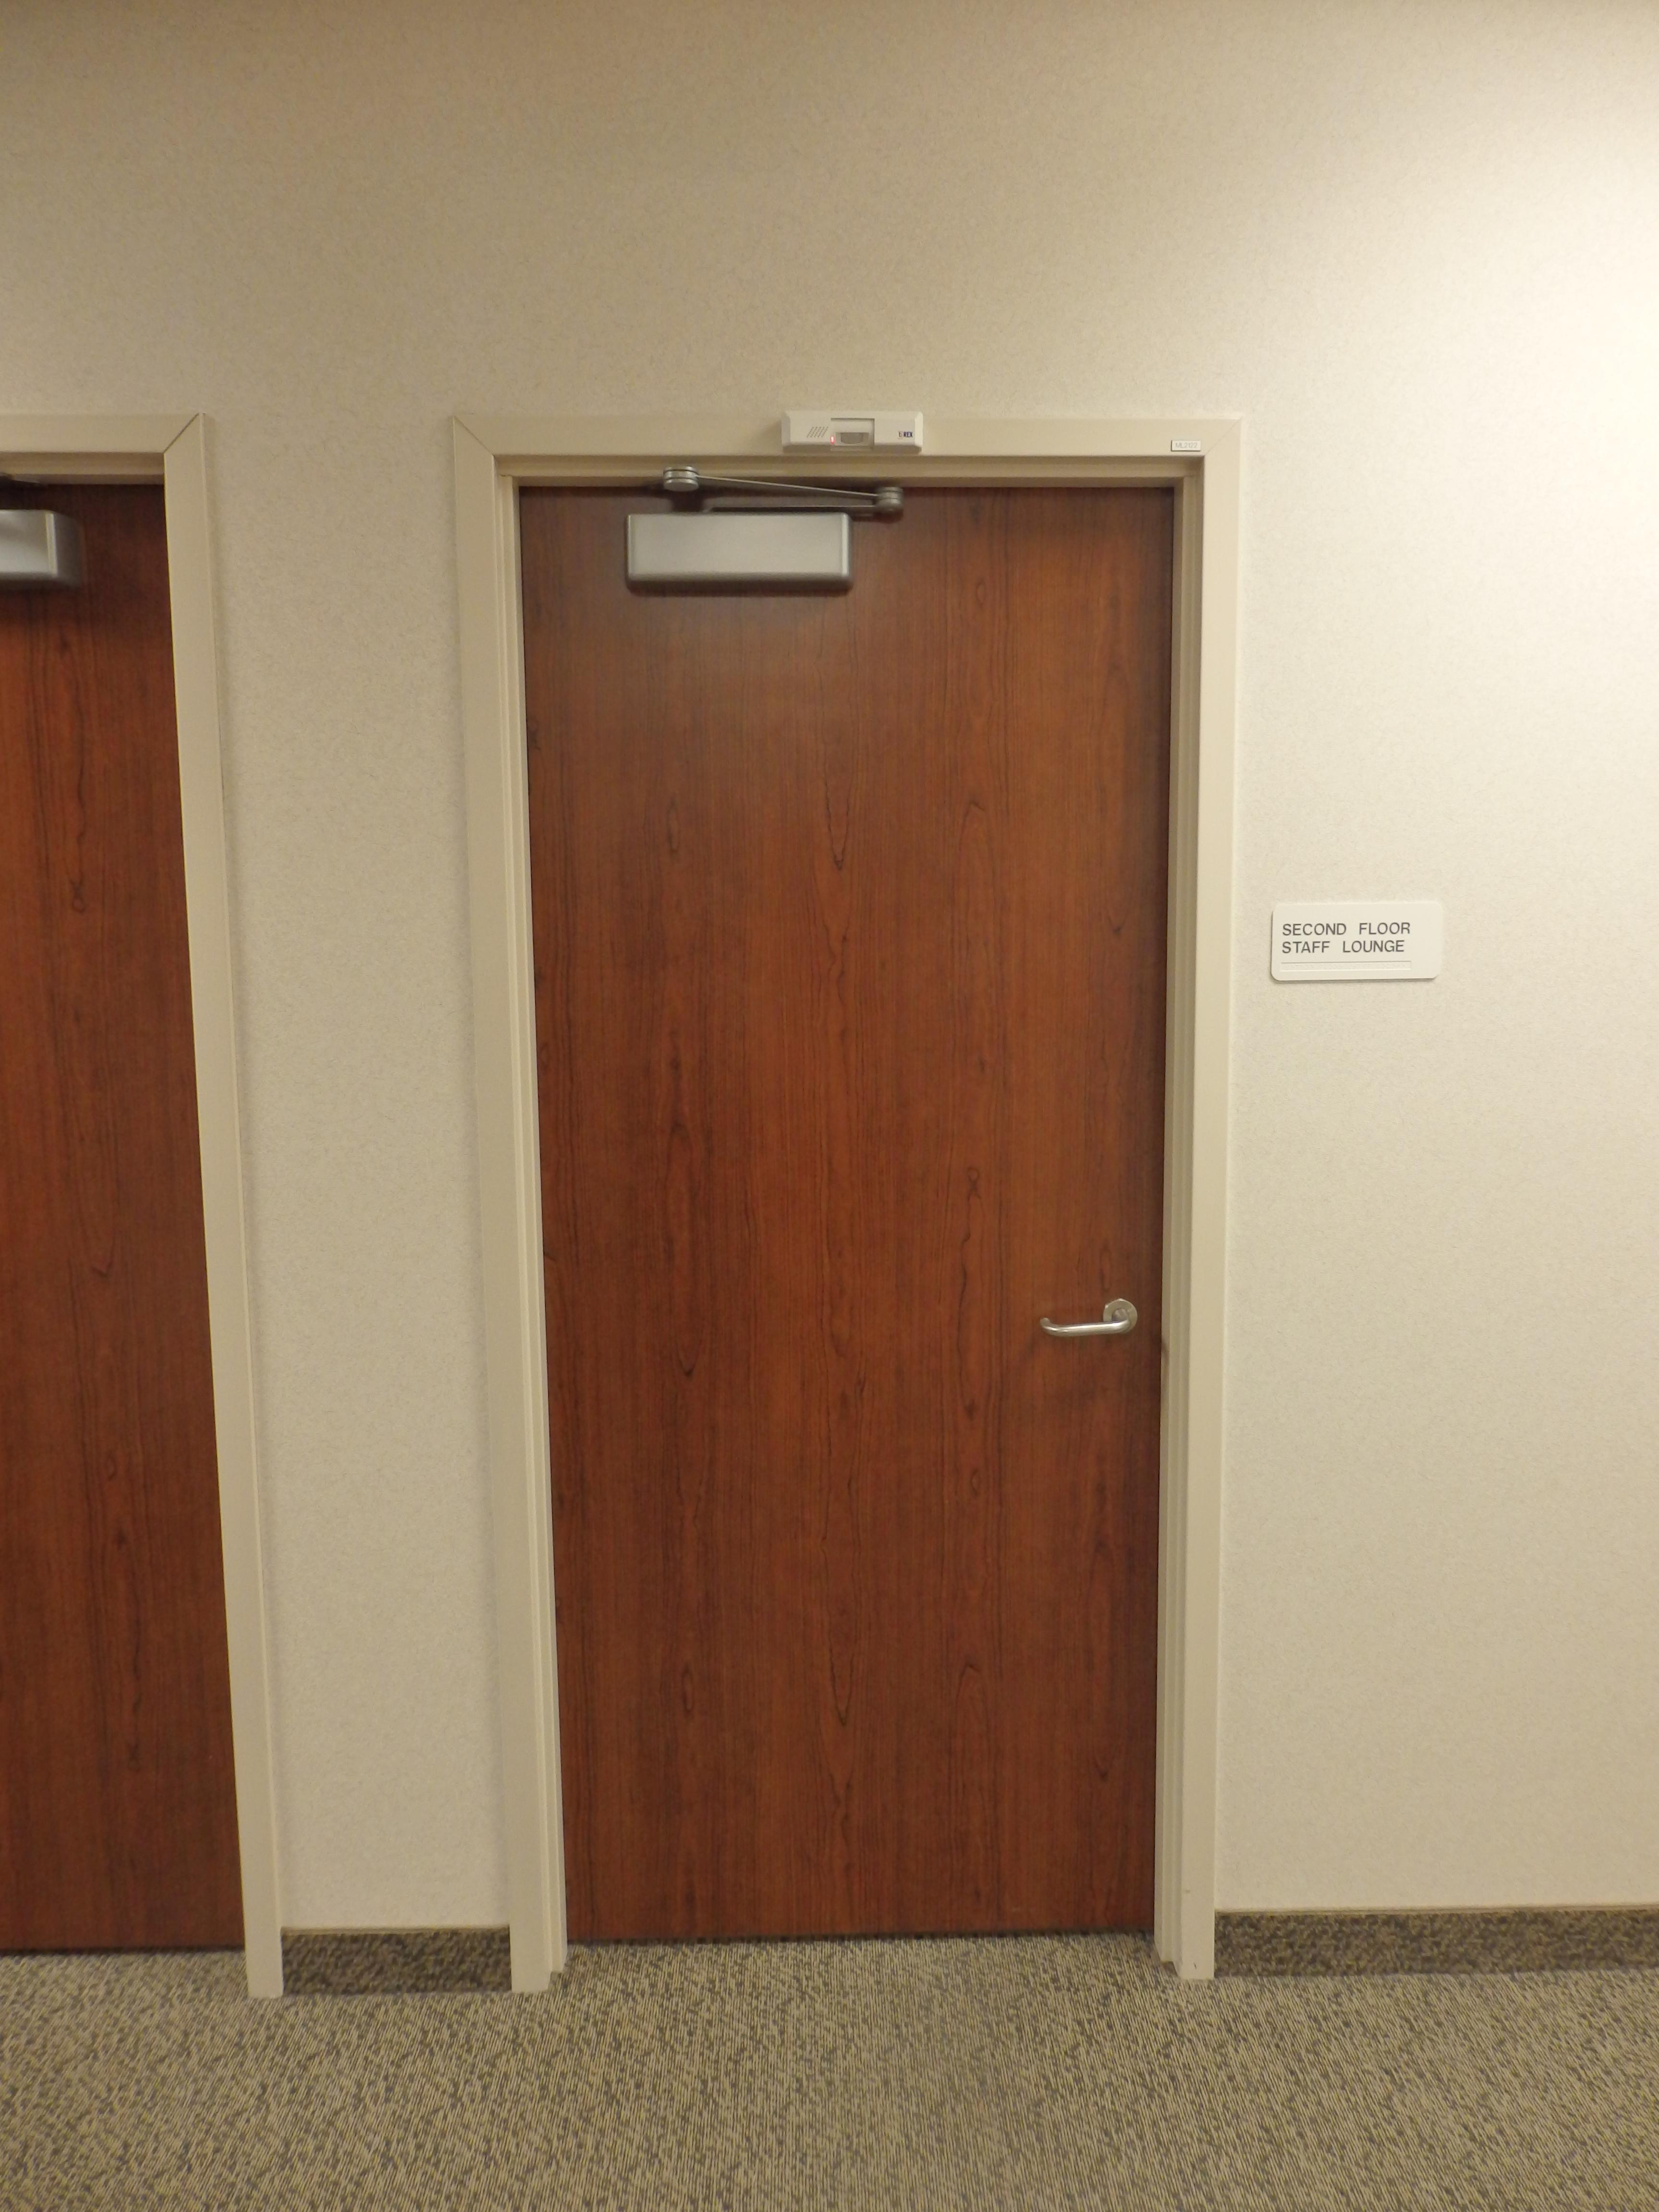door: (507, 462, 1180, 1949)
